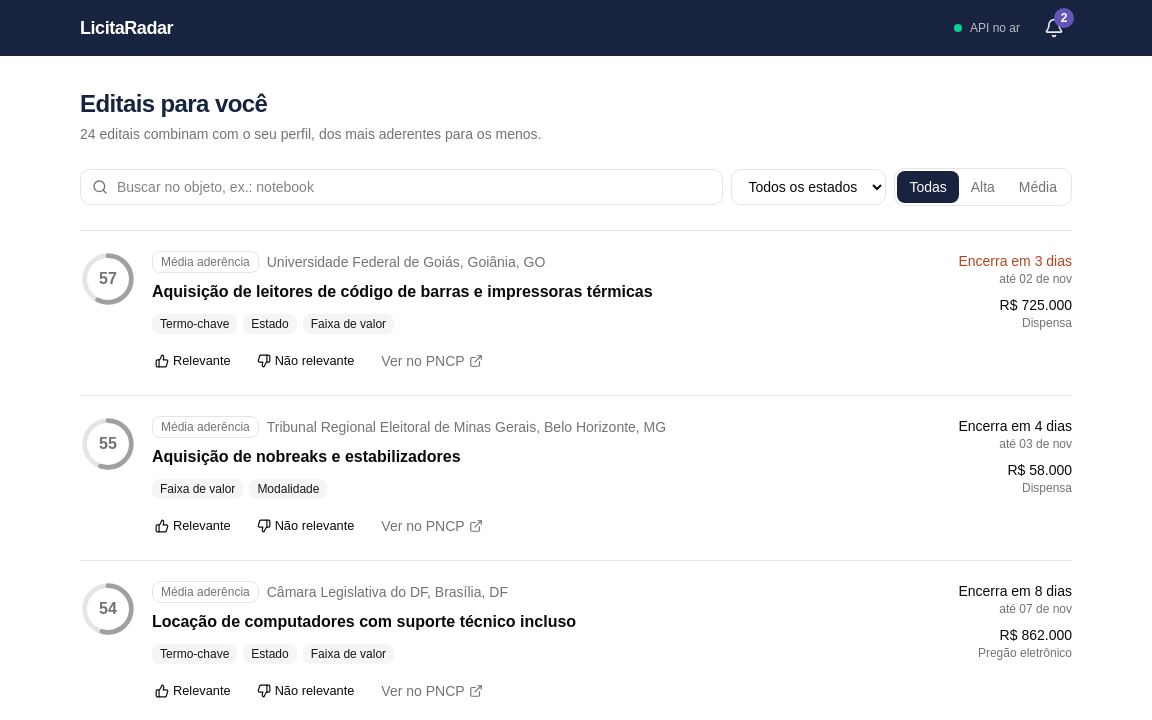
Feed › filtra por faixa e volta para a primeira página
This screenshot has width=1152, height=720.
Click the button "Alta" at (983, 187), box [959,171,1007,203]
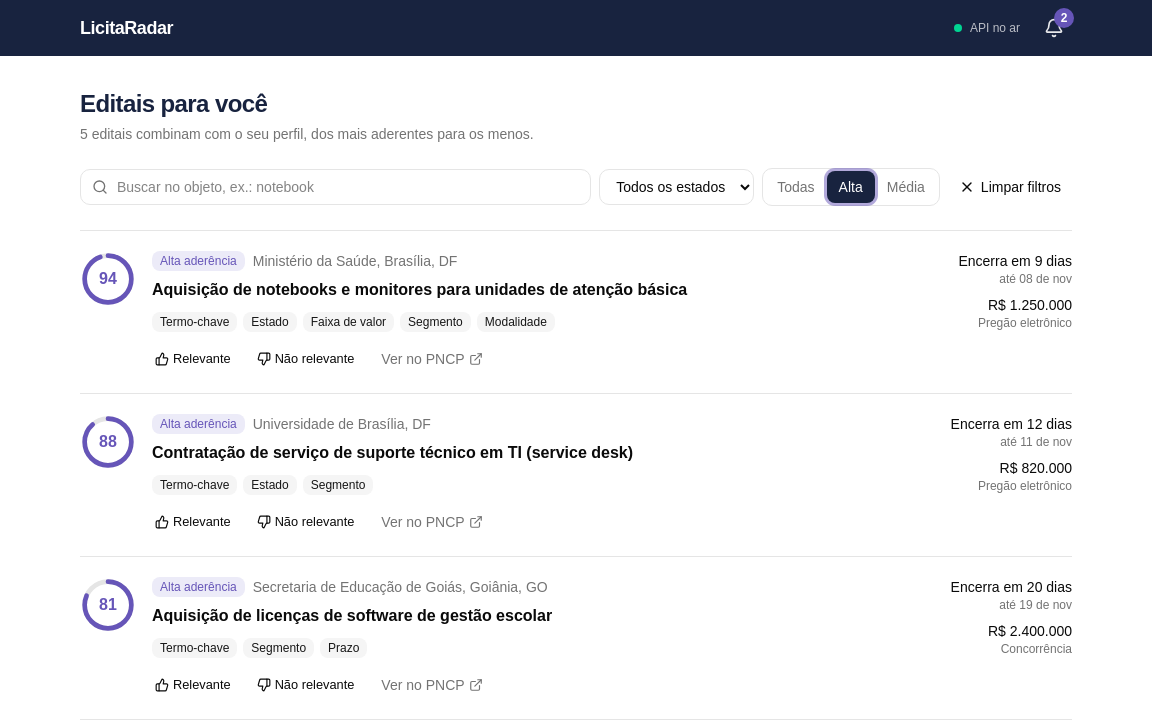
Check: the button "Alta" is shown, box [827,171,875,203]
Check: the text "Alta aderência" is shown 5 times
